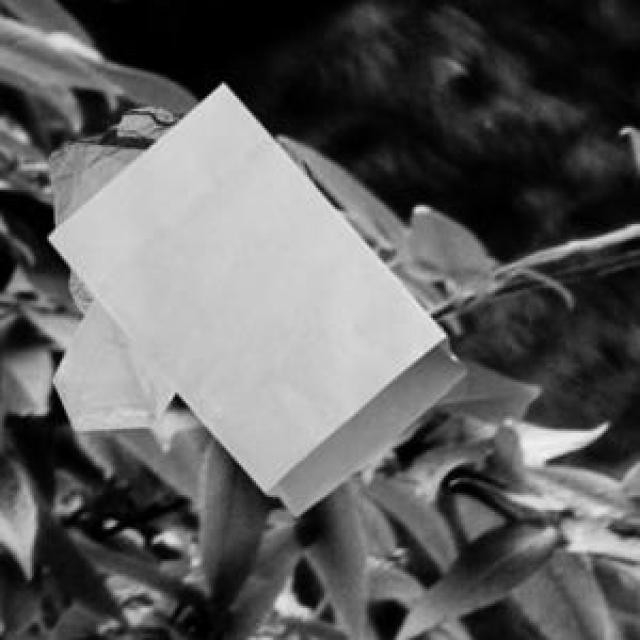paper: (45, 79, 463, 512), (45, 102, 308, 309)
